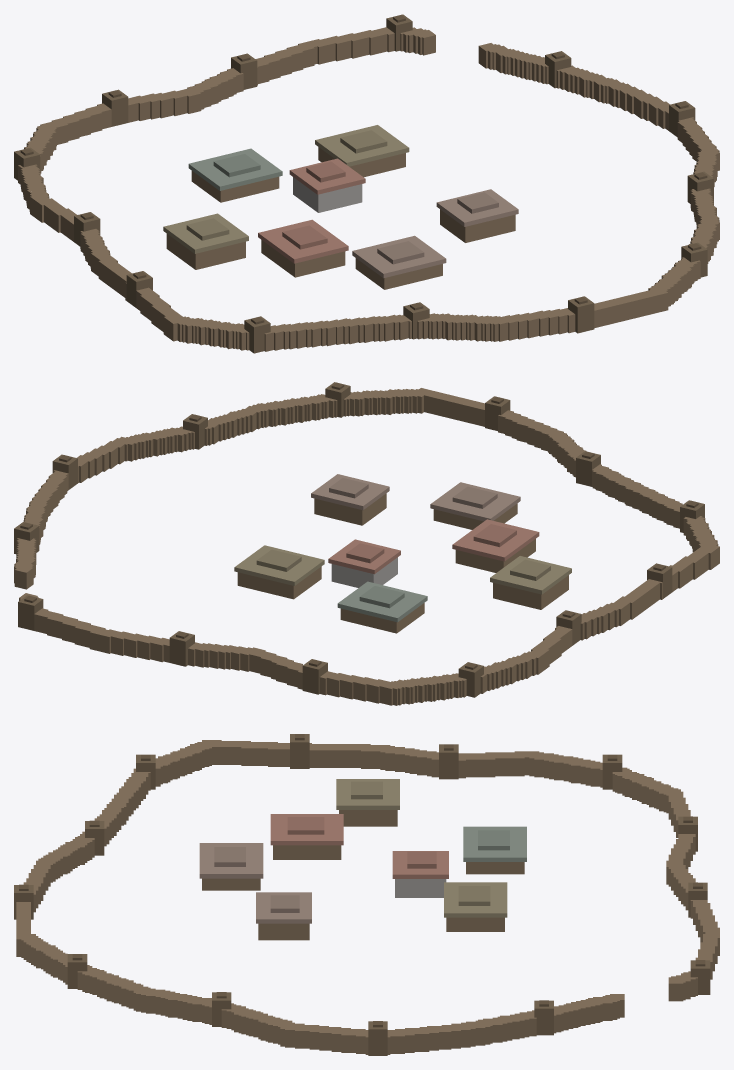
Rendered from ciudad_poblado_orco_poi_58_2147_01.glb.
3 views of the same model, one above another, from view 1: azimuth 30°, elevation 25°; view 2: azimuth 150°, elevation 25°; view 3: azimuth 270°, elevation 25° (orthographic). The views are drawn at different scales.
Parts seen in each view (by area): view 1: ciudad_poblado_orco_poi_58_2147; view 2: ciudad_poblado_orco_poi_58_2147; view 3: ciudad_poblado_orco_poi_58_2147.
Part boxes in pixels (bbox=[...]): ciudad_poblado_orco_poi_58_2147: bbox=[14, 14, 719, 353]; ciudad_poblado_orco_poi_58_2147: bbox=[14, 382, 719, 705]; ciudad_poblado_orco_poi_58_2147: bbox=[14, 734, 719, 1055].
Size of the model in its own units: 72.25 by 3.25 by 72.25.
